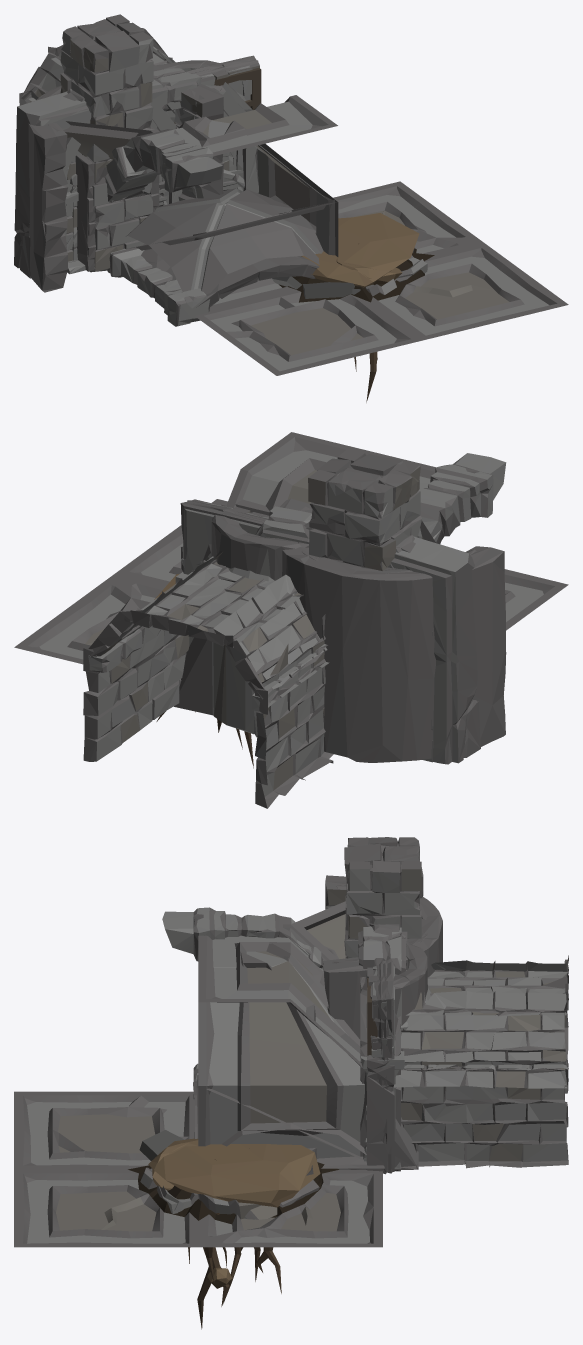
File: Walls.fbx
3 renders of one model, top to bottom at view 1: azimuth 30°, elevation 25°; view 2: azimuth 150°, elevation 25°; view 3: azimuth 270°, elevation 25°, orthographic. The views are drawn at different scales.
Parts seen in each view (by area): view 1: SM_Env_Ceiling_Stone_Flat_06, SM_Env_Ceiling_Arch_01, SM_Env_Wall_Pillar_Large_01, SM_Env_Wall_Alcove_Round_02, SM_Env_Ceiling_Stone_Flat_07, SM_Env_Ceiling_Stone_Pillar_01, SM_Env_Door_Large_Frame_01, SM_Env_Ceiling_Stone_Curved_Corner_01, SM_Env_Ceiling_Stone_Pillar_02, SM_Env_Ceiling_Stone_Curved_01, SM_Env_Wall_Curved_Roof_01, SM_Env_Ceiling_Stone_Curved_03 (+11 smaller); view 2: SM_Env_Wall_Tunnel_01, SM_Env_Wall_Alcove_Round_02, SM_Env_Door_Large_Frame_01, SM_Env_Wall_Pillar_Large_01, SM_Env_Ceiling_Stone_Flat_06, SM_Env_Ceiling_Stone_Pillar_01, SM_Env_Wall_Alcove_Small_01, SM_Env_Ceiling_Stone_Curved_03, SM_Env_Wall_Alcove_Small_02, SM_Env_Ceiling_Stone_Curved_01, SM_Env_Wall_02, SM_Env_Wall_06; view 3: SM_Env_Ceiling_Stone_Flat_06, SM_Env_Wall_Tunnel_01, SM_Env_Ceiling_Stone_Curved_Corner_01, SM_Env_Ceiling_Stone_Flat_07, SM_Env_Wall_Pillar_Large_01, SM_Env_Ceiling_Stone_Curved_03, SM_Env_Wall_Tunnel_Entrance_01, SM_Env_Wall_Alcove_Round_02, SM_Env_Ceiling_Stone_Pillar_01, SM_Env_Ceiling_Stone_Curved_01, SM_Env_Wall_Alcove_Small_02, SM_Env_Ceiling_Stone_Curved_Corner_02 (+5 smaller).
Boxes of the visible parts, bbox=[...] form: SM_Env_Ceiling_Stone_Flat_06: bbox=[195, 181, 568, 375]; SM_Env_Ceiling_Arch_01: bbox=[126, 188, 323, 294]; SM_Env_Wall_Pillar_Large_01: bbox=[60, 14, 154, 267]; SM_Env_Wall_Alcove_Round_02: bbox=[28, 84, 224, 292]; SM_Env_Ceiling_Stone_Flat_07: bbox=[272, 213, 434, 402]; SM_Env_Ceiling_Stone_Pillar_01: bbox=[90, 129, 222, 272]; SM_Env_Door_Large_Frame_01: bbox=[14, 68, 200, 278]; SM_Env_Ceiling_Stone_Curved_Corner_01: bbox=[182, 116, 338, 256]; SM_Env_Ceiling_Stone_Pillar_02: bbox=[106, 245, 210, 326]; SM_Env_Ceiling_Stone_Curved_01: bbox=[147, 97, 337, 155]; SM_Env_Wall_Curved_Roof_01: bbox=[141, 243, 319, 307]; SM_Env_Ceiling_Stone_Curved_03: bbox=[149, 95, 337, 154]; SM_Env_Wall_Tunnel_01: bbox=[83, 551, 333, 808]; SM_Env_Wall_Alcove_Round_02: bbox=[280, 498, 506, 762]; SM_Env_Door_Large_Frame_01: bbox=[256, 506, 480, 764]; SM_Env_Wall_Pillar_Large_01: bbox=[308, 449, 422, 570]; SM_Env_Ceiling_Stone_Flat_06: bbox=[14, 499, 568, 664]; SM_Env_Ceiling_Stone_Pillar_01: bbox=[419, 453, 506, 544]; SM_Env_Wall_Alcove_Small_01: bbox=[182, 502, 275, 737]; SM_Env_Ceiling_Stone_Curved_03: bbox=[226, 433, 435, 515]; SM_Env_Wall_Alcove_Small_02: bbox=[190, 501, 308, 580]; SM_Env_Ceiling_Stone_Curved_01: bbox=[226, 432, 435, 508]; SM_Env_Wall_02: bbox=[174, 544, 213, 715]; SM_Env_Wall_06: bbox=[180, 499, 263, 572]; SM_Env_Ceiling_Stone_Flat_06: bbox=[14, 1091, 382, 1247]; SM_Env_Wall_Tunnel_01: bbox=[392, 955, 568, 1169]; SM_Env_Ceiling_Stone_Curved_Corner_01: bbox=[198, 939, 364, 1169]; SM_Env_Ceiling_Stone_Flat_07: bbox=[128, 1138, 339, 1329]; SM_Env_Wall_Pillar_Large_01: bbox=[344, 837, 423, 958]; SM_Env_Ceiling_Stone_Curved_03: bbox=[198, 927, 362, 1067]; SM_Env_Wall_Tunnel_Entrance_01: bbox=[360, 967, 400, 1171]; SM_Env_Wall_Alcove_Round_02: bbox=[323, 875, 442, 1039]; SM_Env_Ceiling_Stone_Pillar_01: bbox=[162, 907, 323, 969]; SM_Env_Ceiling_Stone_Curved_01: bbox=[198, 924, 359, 1064]; SM_Env_Wall_Alcove_Small_02: bbox=[368, 941, 427, 1037]; SM_Env_Ceiling_Stone_Curved_Corner_02: bbox=[291, 901, 345, 959].
Size of the model in its own units: 1312 by 1505 by 1156.
